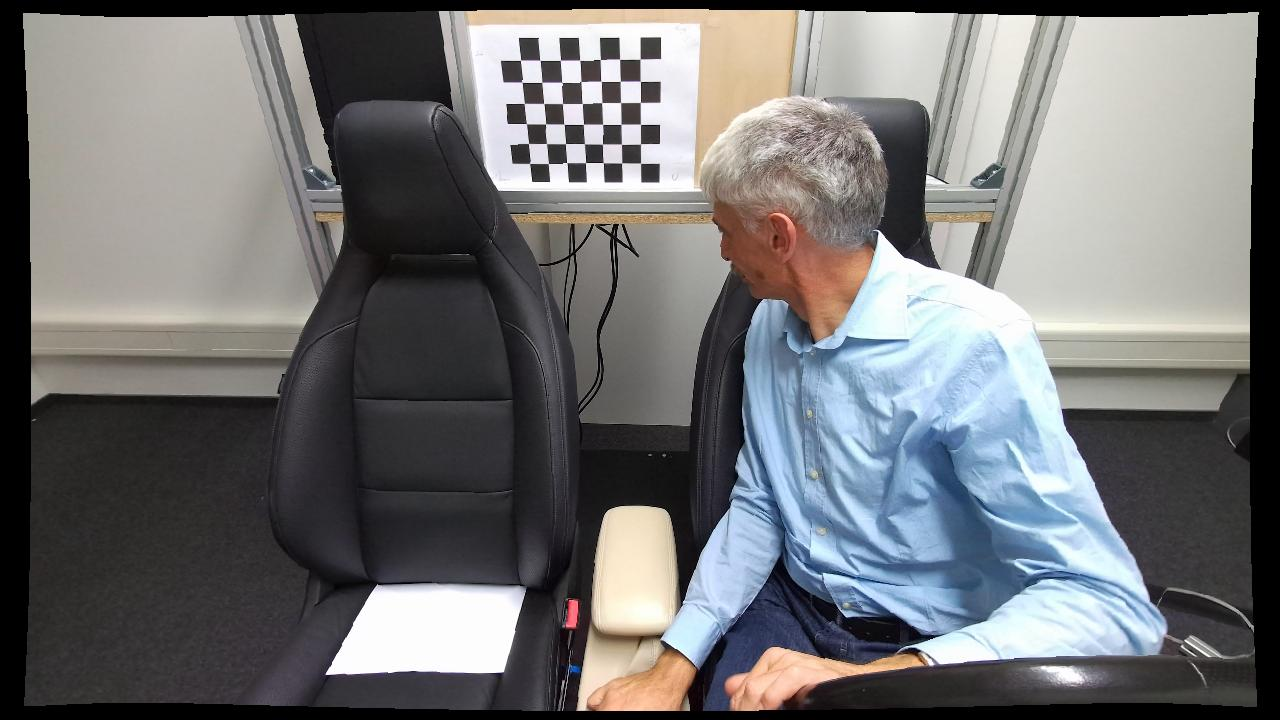Distracted: (664, 83, 1057, 703)
